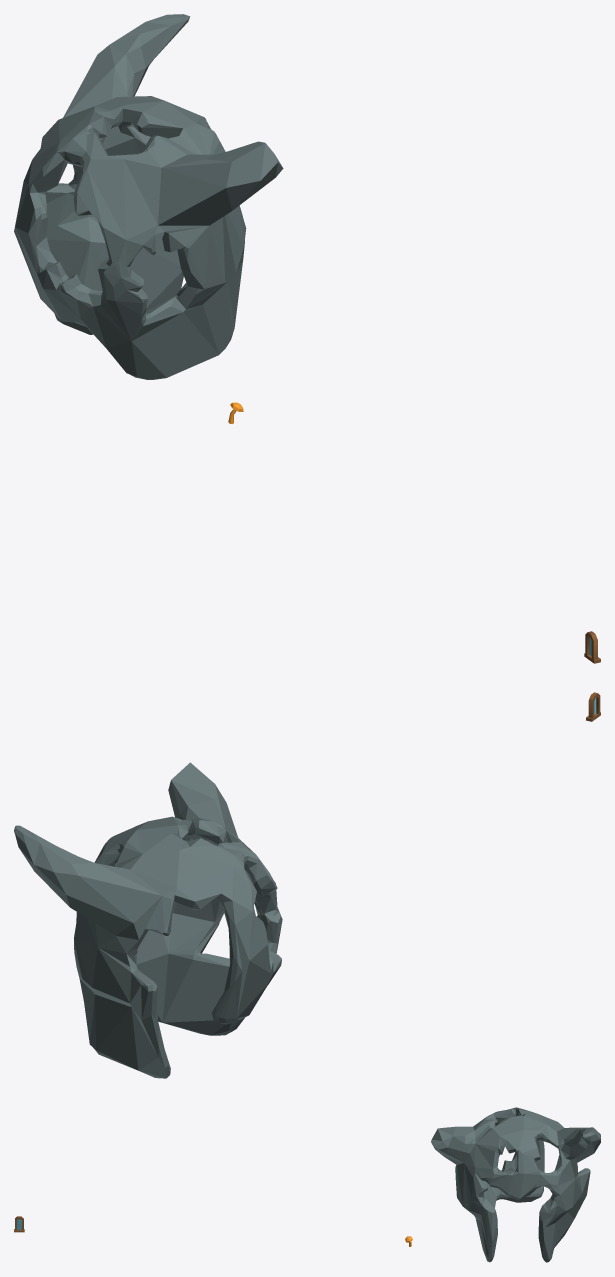
The picture shows the model from 3 angles, top to bottom: view 1: azimuth 30°, elevation 25°; view 2: azimuth 150°, elevation 25°; view 3: azimuth 270°, elevation 25°; orthographic projection. The views are drawn at different scales.
Visible parts, largest first — view 1: Head112_rock_0; view 2: Head112_rock_0; view 3: Head112_rock_0.
Part boxes in pixels (bbox=[...]): Head112_rock_0: bbox=[14, 14, 283, 379]; Head112_rock_0: bbox=[14, 762, 282, 1078]; Head112_rock_0: bbox=[431, 1107, 600, 1262].
Size of the model in its own units: 1025 by 1195 by 4367.
